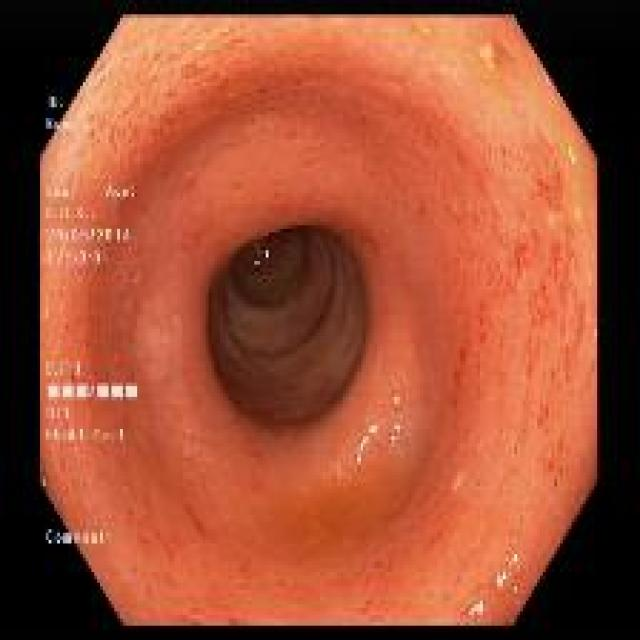ulcerative-colitis: (40, 19, 598, 624)
